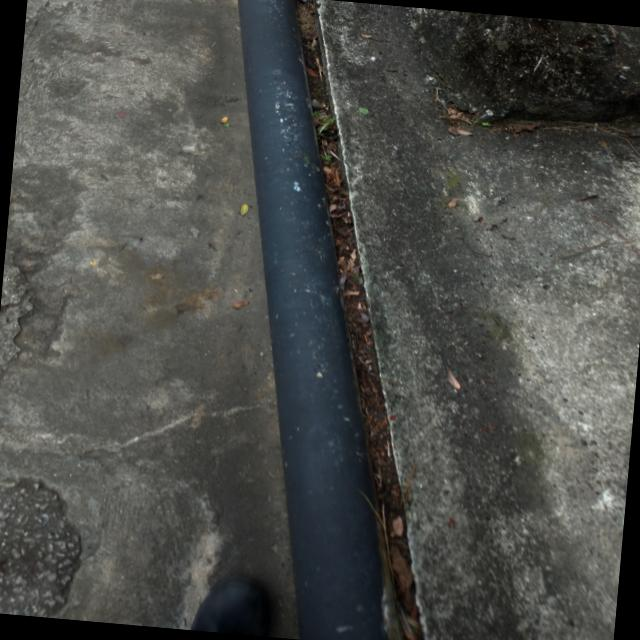gas: (179, 0, 453, 640)
